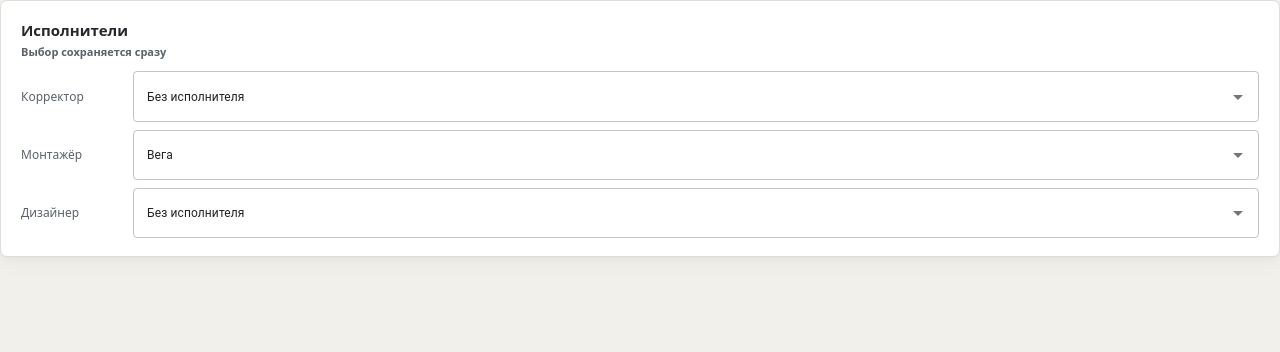
AssignmentPicker › keeps a failed choice with a retry and clears its error after success
Click the dropdown named "Ответственный: Монтажёр": x=681, y=155 [142,139,1220,171]
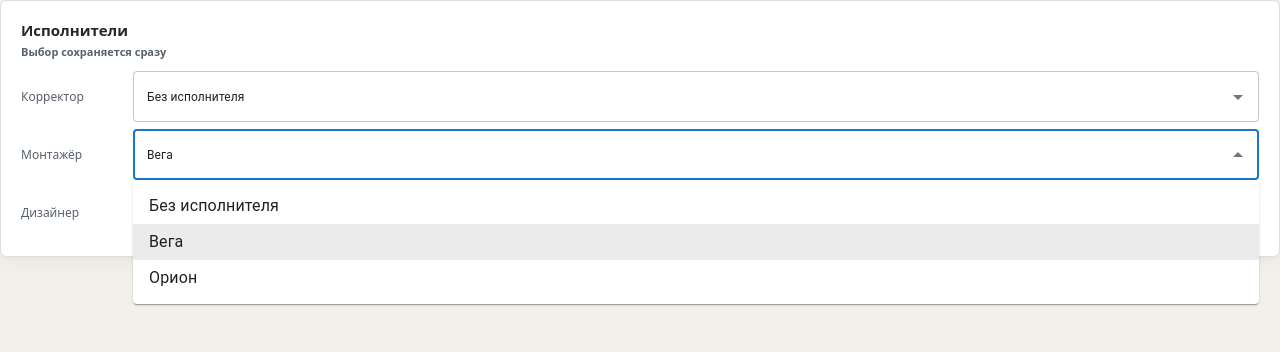
Click the option "Орион": x=173, y=278 [149,268,197,287]
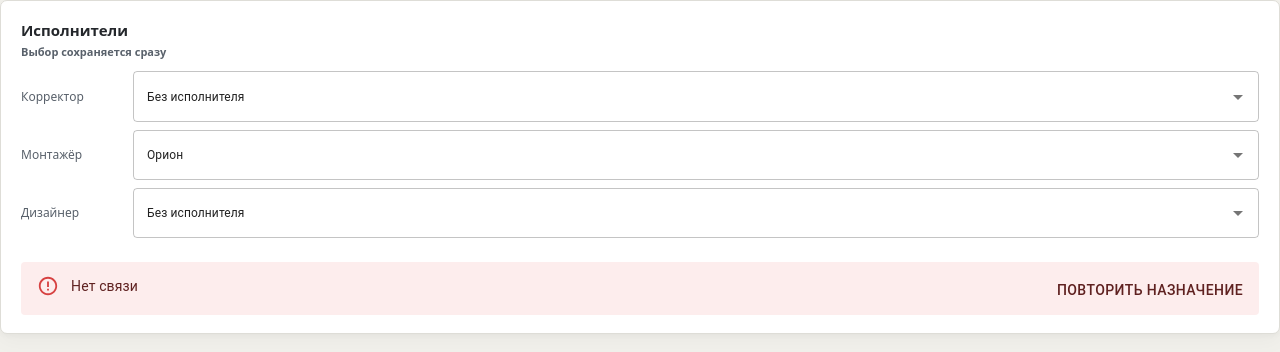
Expected: the message shows "Нет связи", [71,278,138,294]
Expected: the dropdown named "Ответственный: Монтажёр" holds "Орион", [142,139,1220,171]
Click the button "Повторить назначение": x=1150, y=290 [1049,272,1251,309]
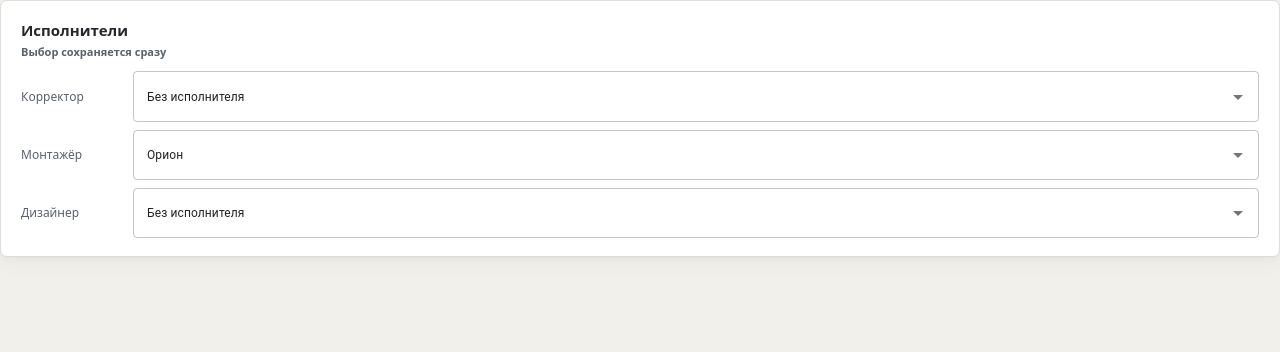
Expected: the message "Нет связи Повторить назначение" is gone
